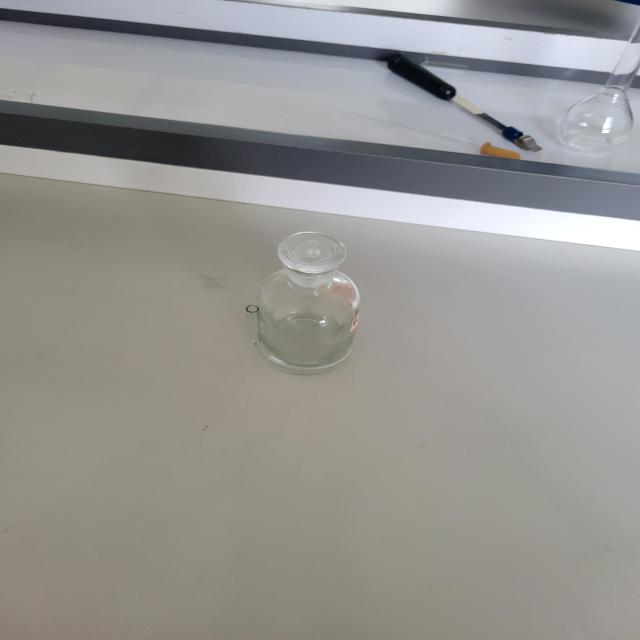Reagent_Bottle: (212, 199, 411, 395)
